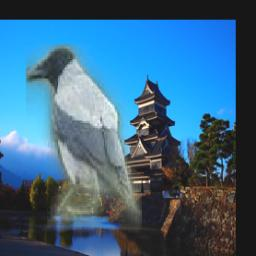Crow: (26, 45, 142, 233)
